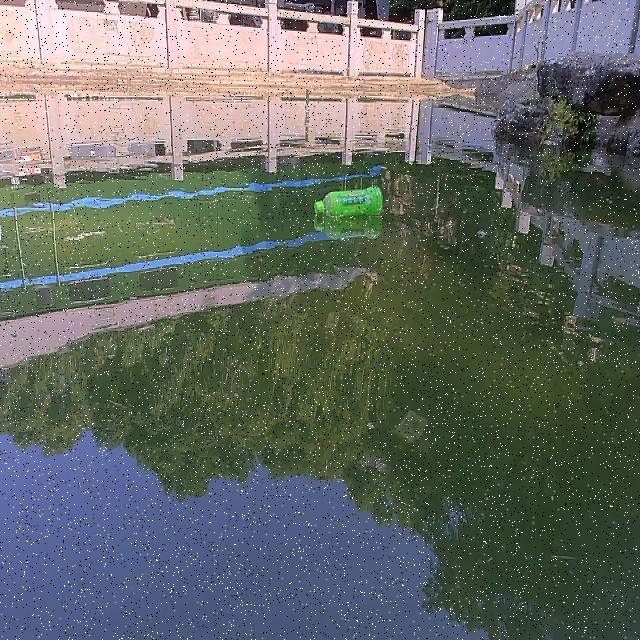bottle: (312, 182, 385, 218)
